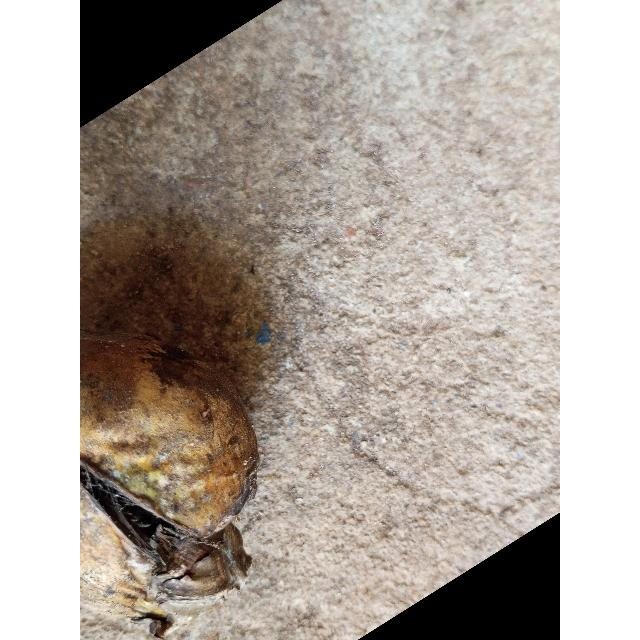damaged: (80, 332, 259, 640)
